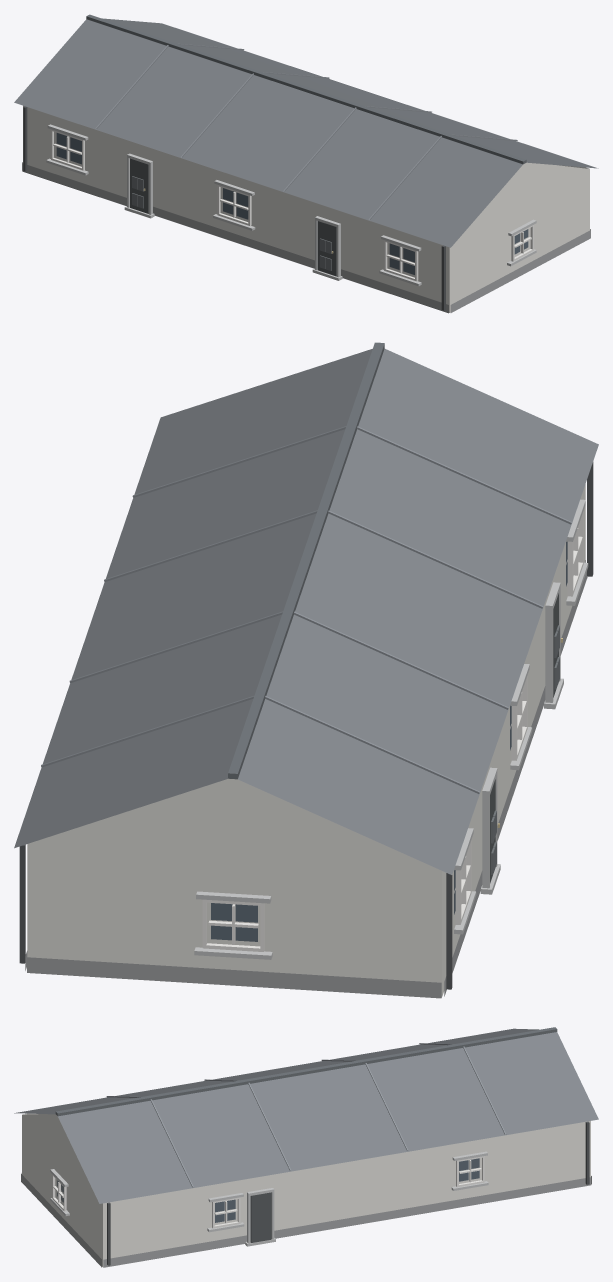
3 views of the same model, one above another, from view 1: azimuth 30°, elevation 25°; view 2: azimuth 150°, elevation 25°; view 3: azimuth 270°, elevation 25° (orthographic). The views are drawn at different scales.
Parts seen in each view (by area): view 1: slate, harl, plinth, stone_band, slate_dk, frame, slate_lt, door_dark, pipe, door_dark_p; view 2: slate, harl, plinth, slate_lt, stone_band, slate_dk, frame, pipe; view 3: slate, harl, plinth, slate_dk, stone_band, frame, slate_lt, door_dark, pipe.
Boxes of the visible parts, <box> form: slate: <box>14,18,598,247</box>; harl: <box>23,105,589,312</box>; plinth: <box>22,162,590,313</box>; stone_band: <box>46,124,536,286</box>; slate_dk: <box>86,14,526,164</box>; frame: <box>51,129,533,281</box>; slate_lt: <box>95,43,517,220</box>; door_dark: <box>130,158,336,276</box>; pipe: <box>23,106,445,310</box>; door_dark_p: <box>132,176,331,270</box>; slate: <box>14,349,598,874</box>; harl: <box>27,484,585,997</box>; plinth: <box>25,560,587,998</box>; slate_lt: <box>41,426,571,793</box>; stone_band: <box>194,499,588,959</box>; slate_dk: <box>228,342,384,779</box>; frame: <box>202,511,583,951</box>; pipe: <box>19,462,593,989</box>; slate: <box>14,1028,598,1203</box>; harl: <box>22,1113,590,1266</box>; plinth: <box>21,1173,591,1267</box>; slate_dk: <box>55,1027,557,1116</box>; stone_band: <box>50,1151,488,1246</box>; frame: <box>52,1156,484,1228</box>; slate_lt: <box>106,1043,506,1187</box>; door_dark: <box>250,1192,271,1242</box>; pipe: <box>107,1121,589,1265</box>.
Size of the model in its own units: 16.03 by 4.84 by 22.62.
